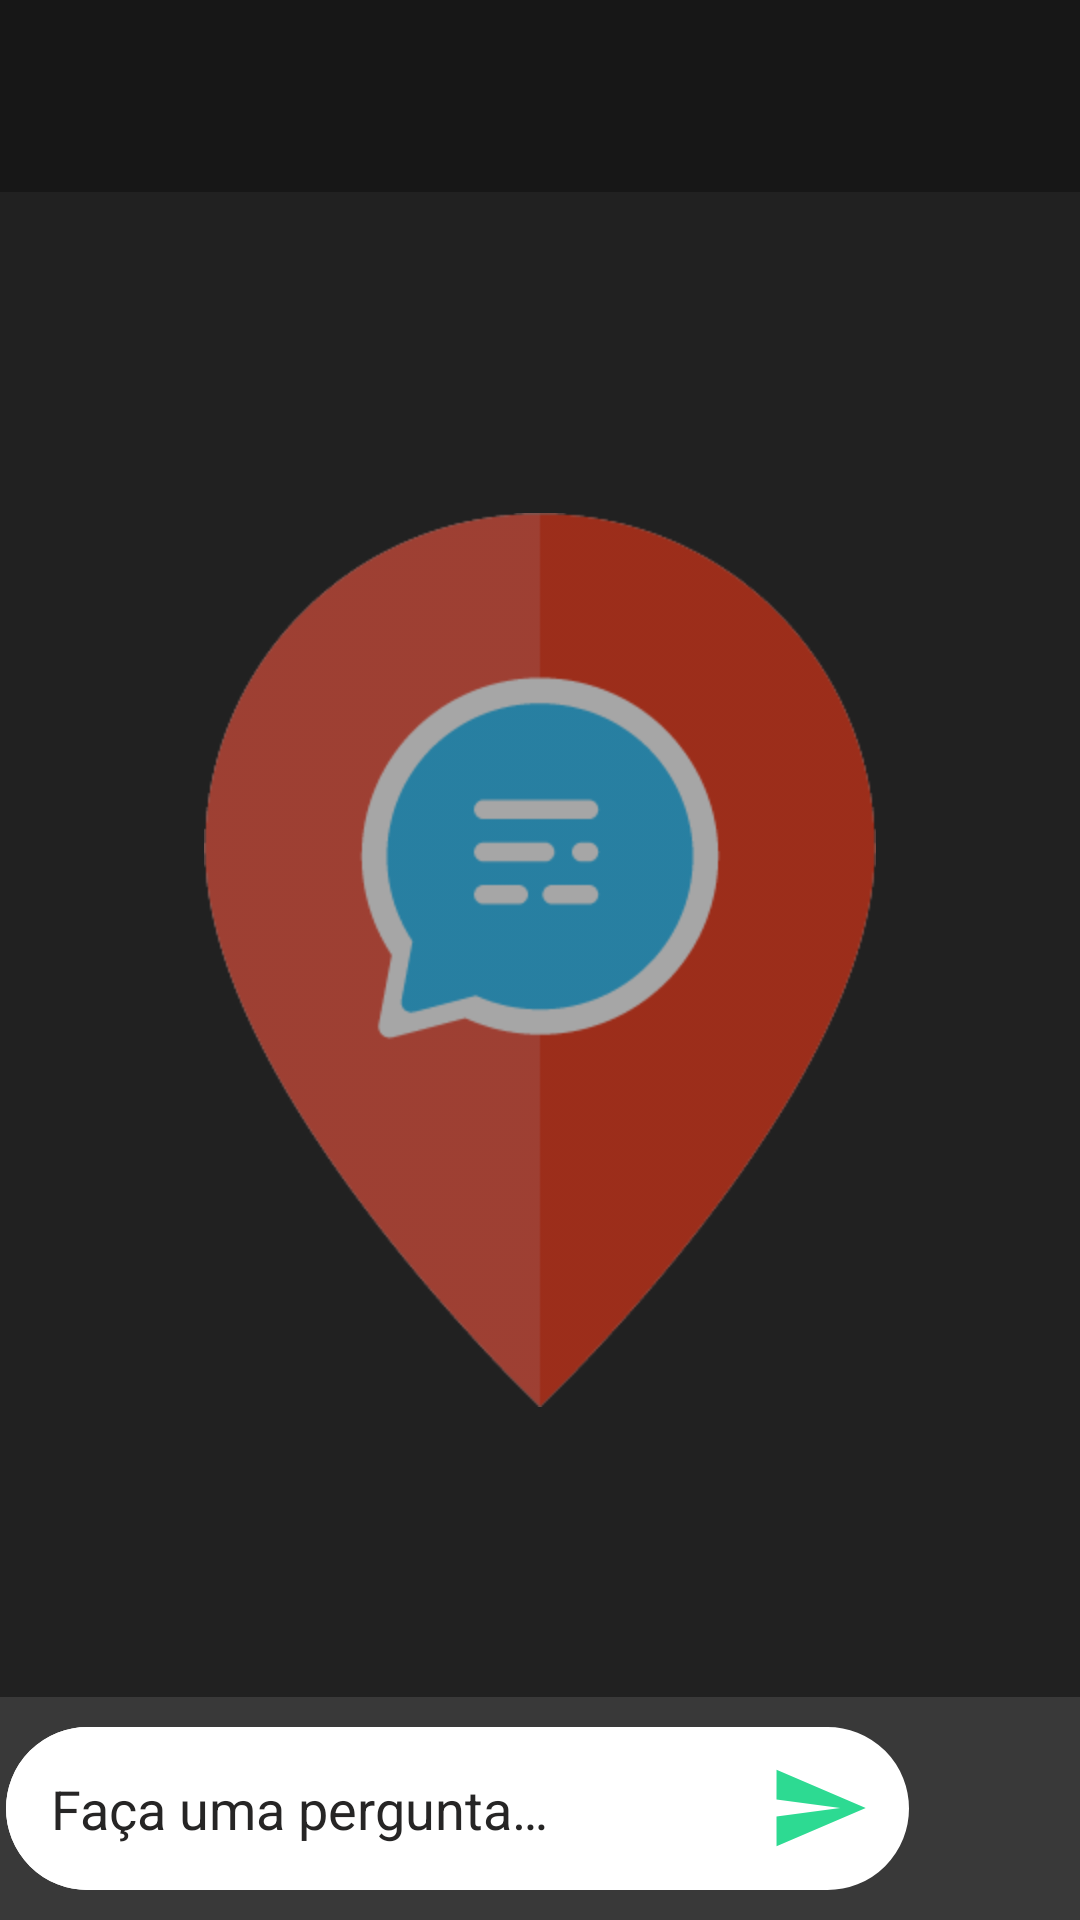

Locate icon controls on the screen. Image size 1080w x 1920h, boxes as (x1, y1, x2, y2).
Icone para envio da mensagem: (729, 1727, 909, 1889)
